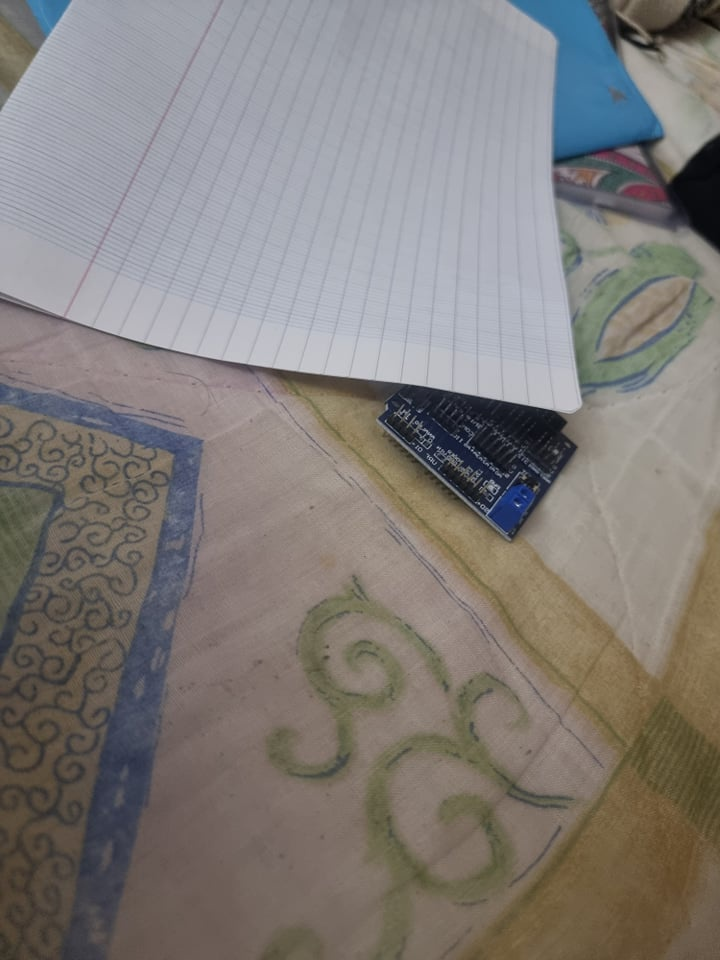5V EXPANSION: (378, 381, 577, 543)
